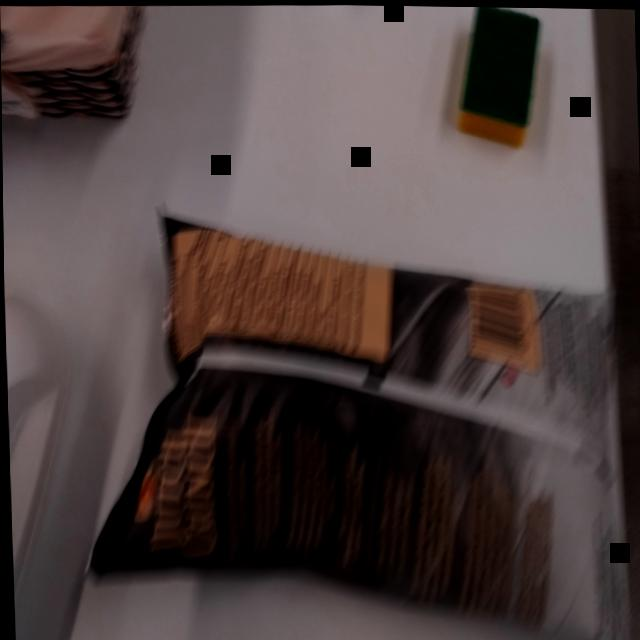potato_chips: (65, 192, 639, 640)
scrubby: (448, 5, 547, 151)
